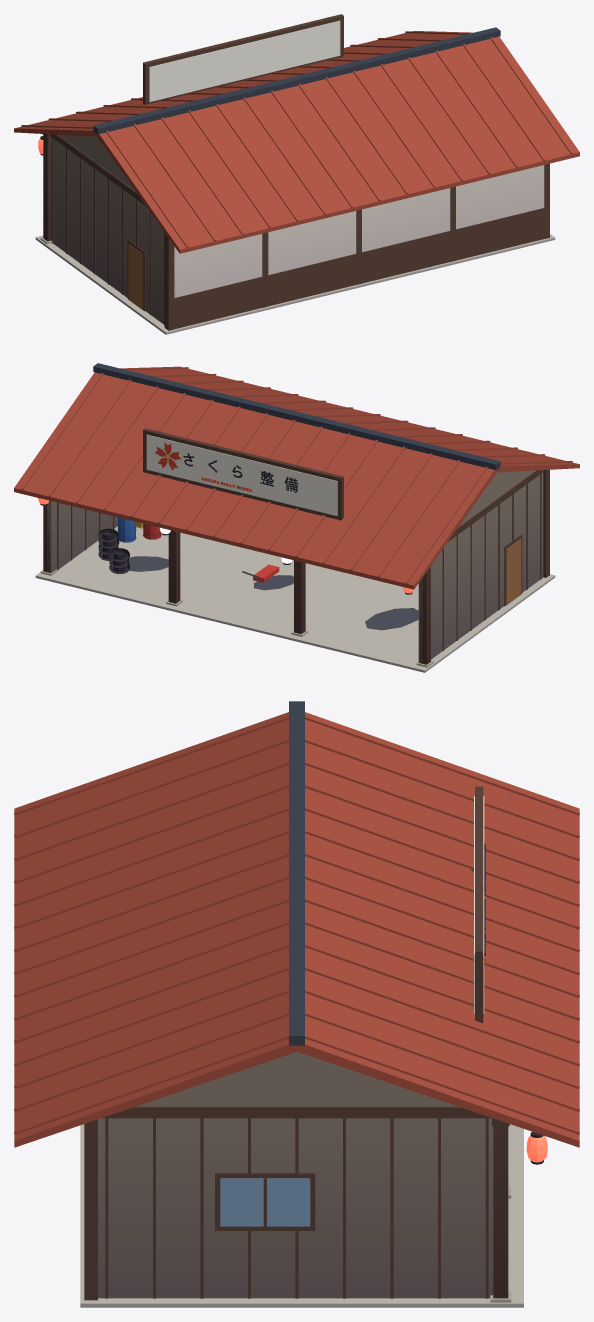
The model's file is garage_workshop.glb.
3 views of the same model, one above another, from view 1: azimuth 30°, elevation 25°; view 2: azimuth 150°, elevation 25°; view 3: azimuth 270°, elevation 25° (orthographic). The views are drawn at different scales.
Visible parts, largest first — view 1: garage_workshop; view 2: garage_workshop; view 3: garage_workshop.
Part boxes in pixels (x1=…): garage_workshop: x1=14, y1=14, x2=579, y2=334; garage_workshop: x1=14, y1=363, x2=579, y2=672; garage_workshop: x1=14, y1=701, x2=579, y2=1307.
Bounding box in the file's own units: 15 × 5.79 × 10.72.
